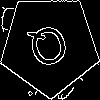Q: (24, 20, 75, 78)
